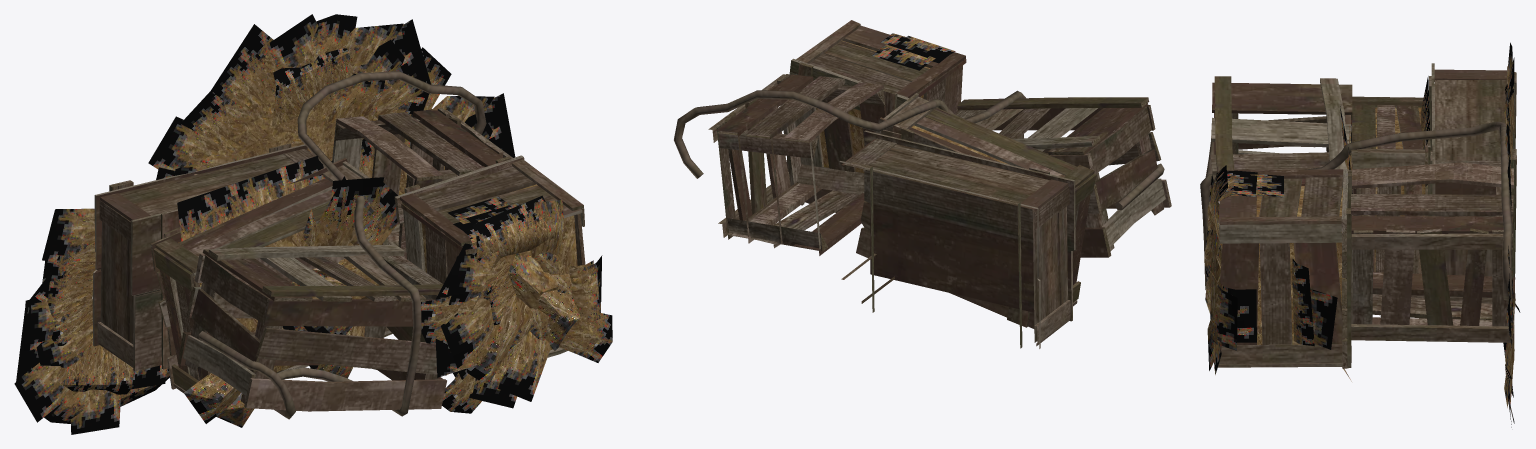
The model's file is GEN_PRO_CrateHandLot_01A_LOD0-transformed.glb.
The picture shows the model from 3 angles, left to right: view 1: azimuth 30°, elevation 25°; view 2: azimuth 150°, elevation 25°; view 3: azimuth 270°, elevation 25°; orthographic projection. The views are drawn at different scales.
Parts seen in each view (by area): view 1: GEN_PRO_CrateHandLot_01A_LOD0; view 2: GEN_PRO_CrateHandLot_01A_LOD0; view 3: GEN_PRO_CrateHandLot_01A_LOD0.
Boxes of the visible parts, left/top/right/bottom form: GEN_PRO_CrateHandLot_01A_LOD0: left=14, top=14, right=612, bottom=434; GEN_PRO_CrateHandLot_01A_LOD0: left=674, top=20, right=1171, bottom=348; GEN_PRO_CrateHandLot_01A_LOD0: left=1200, top=42, right=1520, bottom=427.
Size of the model in its own units: 0.0211 by 0.0148 by 0.0117.
3 materials, 3 textured.
